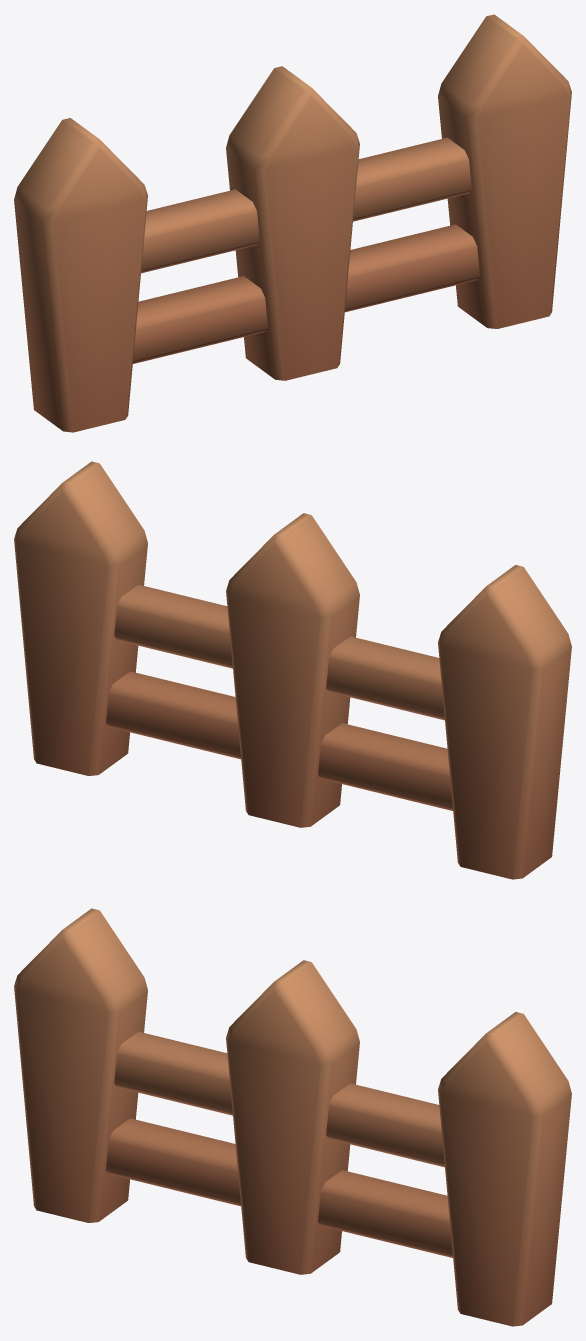
File: fence_straight_long.fbx
3 views of the same model, one above another, from view 1: azimuth 30°, elevation 25°; view 2: azimuth 150°, elevation 25°; view 3: azimuth 330°, elevation 25° (orthographic).
Visible parts, largest first — view 1: fence_straight_long; view 2: fence_straight_long; view 3: fence_straight_long.
Boxes of the visible parts, x1=… form: fence_straight_long: x1=14, y1=14, x2=571, y2=432; fence_straight_long: x1=14, y1=461, x2=571, y2=879; fence_straight_long: x1=14, y1=908, x2=571, y2=1326.
Size of the model in its own units: 2.49 by 1.28 by 0.3.
